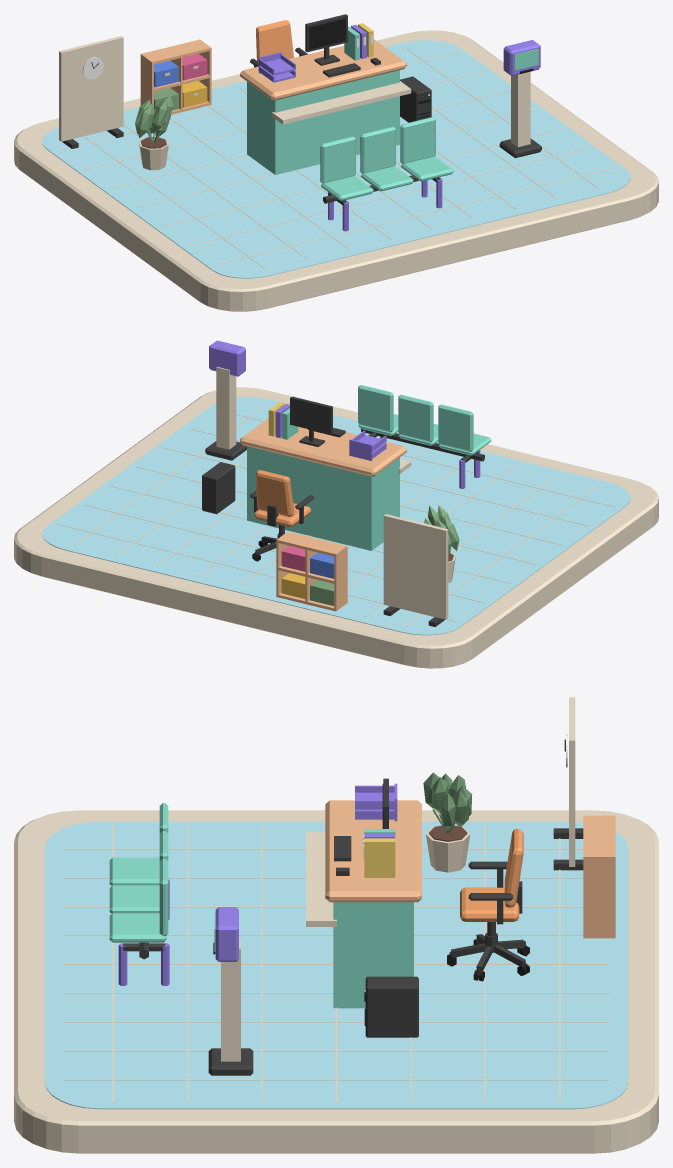
The model's file is room.fbx.
The picture shows the model from 3 angles, top to bottom: view 1: azimuth 30°, elevation 25°; view 2: azimuth 150°, elevation 25°; view 3: azimuth 270°, elevation 25°; orthographic projection. The views are drawn at different scales.
Parts seen in each view (by area): view 1: COM-02 Floor Surface, COM-01 Rounded Base Direct, Counter body, Panel, Countertop, Pot, Visitor shelf, Frame, Back.001, Back.002, Back, Pedestal (+14 smaller); view 2: COM-02 Floor Surface, COM-01 Rounded Base Direct, Counter body, Panel, Countertop, COM-04_Chair_blender_direct, Pedestal, Tower, Frame, Back, Back.001, Back.002 (+9 smaller); view 3: COM-02 Floor Surface, COM-01 Rounded Base Direct, Counter body, Countertop, COM-04_Chair_blender_direct, Pot, Tower, Cubbies divider.002, Visitor shelf, Pedestal, Seat.002, Seat (+11 smaller).
Boxes of the visible parts, bbox=[...] form: COM-02 Floor Surface: bbox=[42, 40, 630, 278]; COM-01 Rounded Base Direct: bbox=[14, 30, 658, 311]; Counter body: bbox=[247, 70, 399, 174]; Panel: bbox=[59, 36, 123, 141]; Countertop: bbox=[240, 39, 406, 100]; Pot: bbox=[135, 95, 173, 170]; Visitor shelf: bbox=[272, 81, 411, 124]; Frame: bbox=[305, 14, 347, 65]; Back.001: bbox=[360, 126, 395, 173]; Back.002: bbox=[400, 117, 435, 163]; Back: bbox=[320, 136, 355, 183]; Pedestal: bbox=[511, 71, 530, 147]; COM-02 Floor Surface: bbox=[42, 397, 630, 635]; COM-01 Rounded Base Direct: bbox=[14, 387, 658, 668]; Counter body: bbox=[247, 446, 399, 550]; Panel: bbox=[383, 514, 448, 619]; Countertop: bbox=[240, 418, 406, 476]; COM-04_Chair_blender_direct: bbox=[250, 470, 314, 561]; Pedestal: bbox=[216, 367, 236, 449]; Tower: bbox=[202, 462, 235, 514]; Frame: bbox=[290, 396, 332, 446]; Back: bbox=[438, 404, 473, 451]; Back.001: bbox=[398, 394, 433, 441]; Back.002: bbox=[358, 385, 393, 432]; COM-02 Floor Surface: bbox=[44, 821, 628, 1109]; COM-01 Rounded Base Direct: bbox=[14, 810, 658, 1153]; Counter body: bbox=[333, 902, 413, 1008]; Countertop: bbox=[325, 800, 421, 902]; COM-04_Chair_blender_direct: bbox=[447, 829, 529, 981]; Pot: bbox=[423, 772, 472, 872]; Tower: bbox=[365, 976, 418, 1037]; Cubbies divider.002: bbox=[583, 857, 615, 938]; Visitor shelf: bbox=[306, 832, 336, 926]; Pedestal: bbox=[221, 939, 240, 1061]; Seat.002: bbox=[109, 913, 166, 942]; Seat: bbox=[109, 857, 159, 885].
Bounding box in the file's own units: 600 × 187 × 520.
